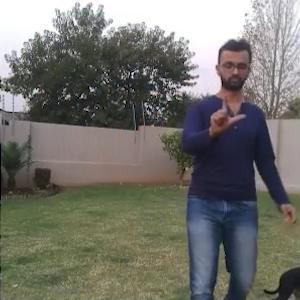land_hand: (207, 91, 248, 137)
